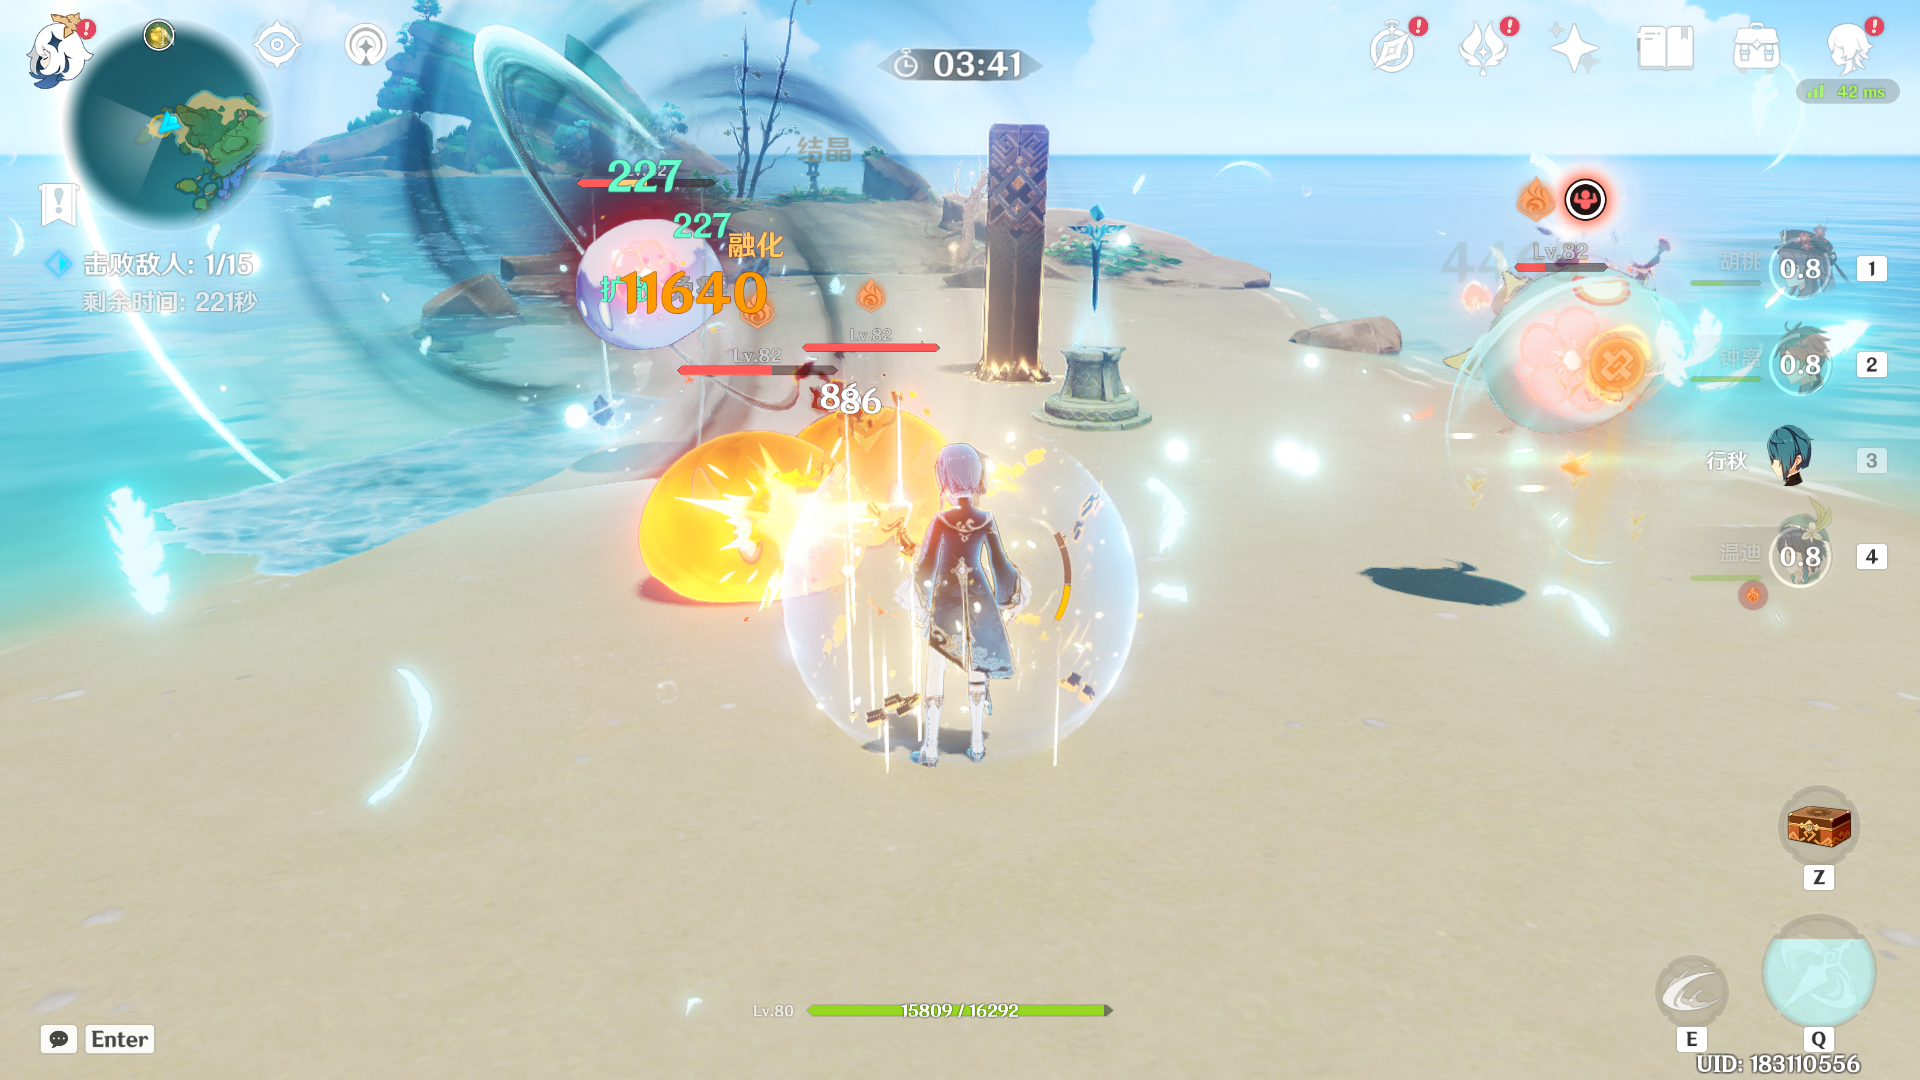character: (880, 434, 1062, 775)
slime: (1462, 243, 1724, 469), (608, 429, 884, 620), (761, 385, 973, 531), (533, 202, 717, 363)
